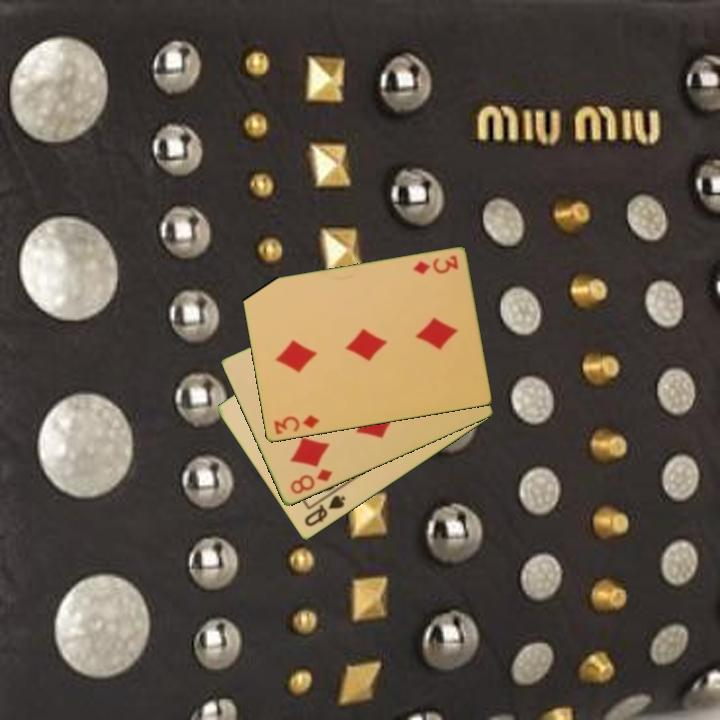3d: (270, 412, 322, 438), (409, 252, 461, 277)
8d: (286, 466, 335, 498)
Qs: (301, 492, 348, 530)
